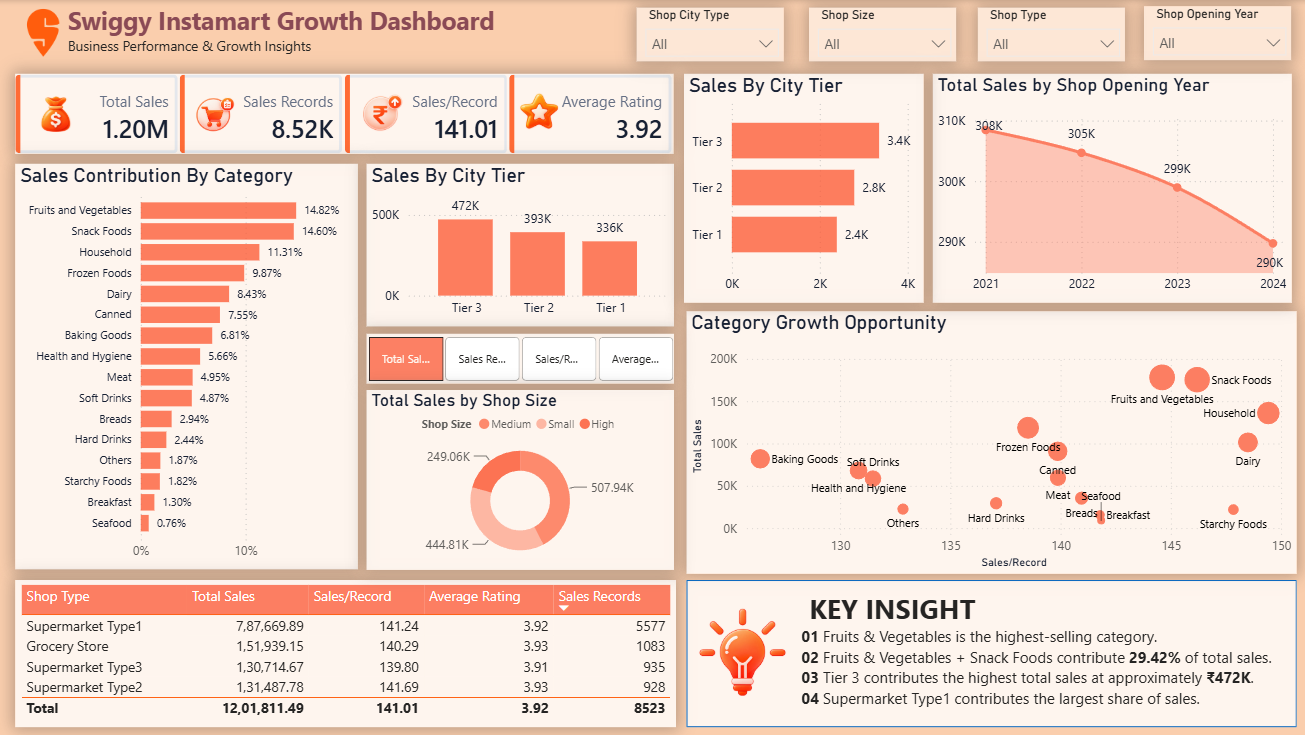

This screenshot's page, from the dashboard's own definition file:
{"tool":"powerbi","page":{"name":"Page 1","canvas":[1280,720],"ordinal":0},"visuals":[{"type":"cardVisual","fields":{"Data":["KPI's.Total_sales","KPI's.Sales Records","KPI's.Sales/Record","KPI's.Average Rating"]},"box":[16,72,644,78],"z":0},{"type":"clusteredBarChart","title":"Sales Contribution By Category","fields":{"Category":["Grocery Shop.Category"],"Y":["DAX.Sales % Of Total"]},"box":[16,160,335,397],"z":1000},{"type":"clusteredColumnChart","title":"Sales By City Tier","fields":{"Y":["KPI's.Total Sales"],"Category":["Grocery Shop.Shop City Type"]},"box":[359,160,301,159],"z":2000},{"type":"tableEx","title":"Sales By Shop Type ","fields":{"Values":["Grocery Shop.Shop Type","KPI's.Total Sales","KPI's.Sales/Record","KPI's.Average Rating","KPI's.Sales Records"]},"box":[16,567,646,144],"z":3000},{"type":"scatterChart","title":"Category Growth Opportunity","fields":{"Category":["Grocery Shop.Category"],"X":["KPI's.Sales/Record"],"Y":["KPI's.Total Sales"],"Size":["KPI's.Sales Records"]},"box":[672,304,597,257],"z":4000},{"type":"advancedSlicerVisual","fields":{"Values":["Parameter.Parameter"]},"box":[359,327,301,49],"z":5000},{"type":"donutChart","fields":{"Y":["KPI's.Average Rating"],"Category":["Grocery Shop.Shop Size"]},"box":[359,381,301,176],"z":6000},{"type":"areaChart","fields":{"Category":["Grocery Shop.Shop Opening Year"],"Y":["KPI's.Total Sales"]},"box":[914,72,351,224],"z":7000},{"type":"clusteredBarChart","title":"Sales By City Tier","fields":{"Category":["Grocery Shop.Shop City Type"],"Y":["KPI's.Sales Records"]},"box":[670,72,234,224],"z":8000},{"type":"image","box":[0,0,86,64],"z":9000},{"type":"textbox","box":[67,4,549,60],"z":10000},{"type":"slicer","fields":{"Values":["Grocery Shop.Shop City Type"]},"box":[624,7,144,53],"z":11000},{"type":"slicer","fields":{"Values":["Grocery Shop.Shop Opening Year"]},"box":[1120,6,144,53],"z":12000},{"type":"slicer","fields":{"Values":["Grocery Shop.Shop Type"]},"box":[958,7,144,53],"z":13000},{"type":"shape","box":[672,567,597,144],"z":14000},{"type":"slicer","fields":{"Values":["Grocery Shop.Shop Size"]},"box":[792,7,144,53],"z":15000},{"type":"textbox","box":[780,572,480,132],"z":16000},{"type":"image","box":[349,86,52,52],"z":17000},{"type":"image","box":[185,86,52,52],"z":18000},{"type":"image","box":[505,86,47,47],"z":19000},{"type":"image","box":[34,91,43,43],"z":20000},{"type":"image","box":[671,592,112,96],"z":21000}]}

Visuals, with their boxes in screenshot pixels (x1, y1, x2, y2), scaled from the page's 1280x720 canvas onto the 1305x735 screenshot:
cardVisual - KPI's.Total_sales x KPI's.Sales Records: x1=16, y1=74, x2=673, y2=153
"Sales Contribution By Category" clusteredBarChart: x1=16, y1=163, x2=358, y2=569
"Sales By City Tier" clusteredColumnChart: x1=366, y1=163, x2=673, y2=326
"Sales By Shop Type " tableEx: x1=16, y1=579, x2=675, y2=726
"Category Growth Opportunity" scatterChart: x1=685, y1=310, x2=1294, y2=573
advancedSlicerVisual - Parameter.Parameter: x1=366, y1=334, x2=673, y2=384
donutChart - KPI's.Average Rating x Grocery Shop.Shop Size: x1=366, y1=389, x2=673, y2=569
areaChart - Grocery Shop.Shop Opening Year x KPI's.Total Sales: x1=932, y1=74, x2=1290, y2=302
"Sales By City Tier" clusteredBarChart: x1=683, y1=74, x2=922, y2=302
image: x1=0, y1=0, x2=88, y2=65
textbox: x1=68, y1=4, x2=628, y2=65
slicer - Grocery Shop.Shop City Type: x1=636, y1=7, x2=783, y2=61
slicer - Grocery Shop.Shop Opening Year: x1=1142, y1=6, x2=1289, y2=60
slicer - Grocery Shop.Shop Type: x1=977, y1=7, x2=1124, y2=61
shape: x1=685, y1=579, x2=1294, y2=726
slicer - Grocery Shop.Shop Size: x1=807, y1=7, x2=954, y2=61
textbox: x1=795, y1=584, x2=1285, y2=719
image: x1=356, y1=88, x2=409, y2=141
image: x1=189, y1=88, x2=242, y2=141
image: x1=515, y1=88, x2=563, y2=136
image: x1=35, y1=93, x2=79, y2=137
image: x1=684, y1=604, x2=798, y2=702
